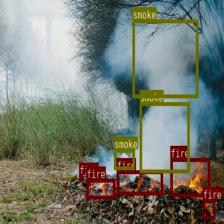fire: (170, 158, 210, 196), (117, 170, 162, 194), (86, 178, 115, 199), (202, 199, 214, 219), (78, 175, 82, 179)
smoke: (132, 19, 198, 98), (140, 102, 189, 172), (114, 149, 134, 169)
